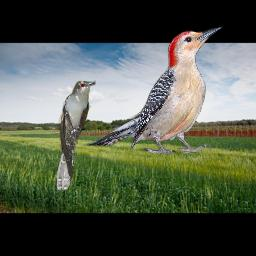Cuckoo: (55, 79, 96, 190)
Woodpecker: (82, 24, 225, 155)
